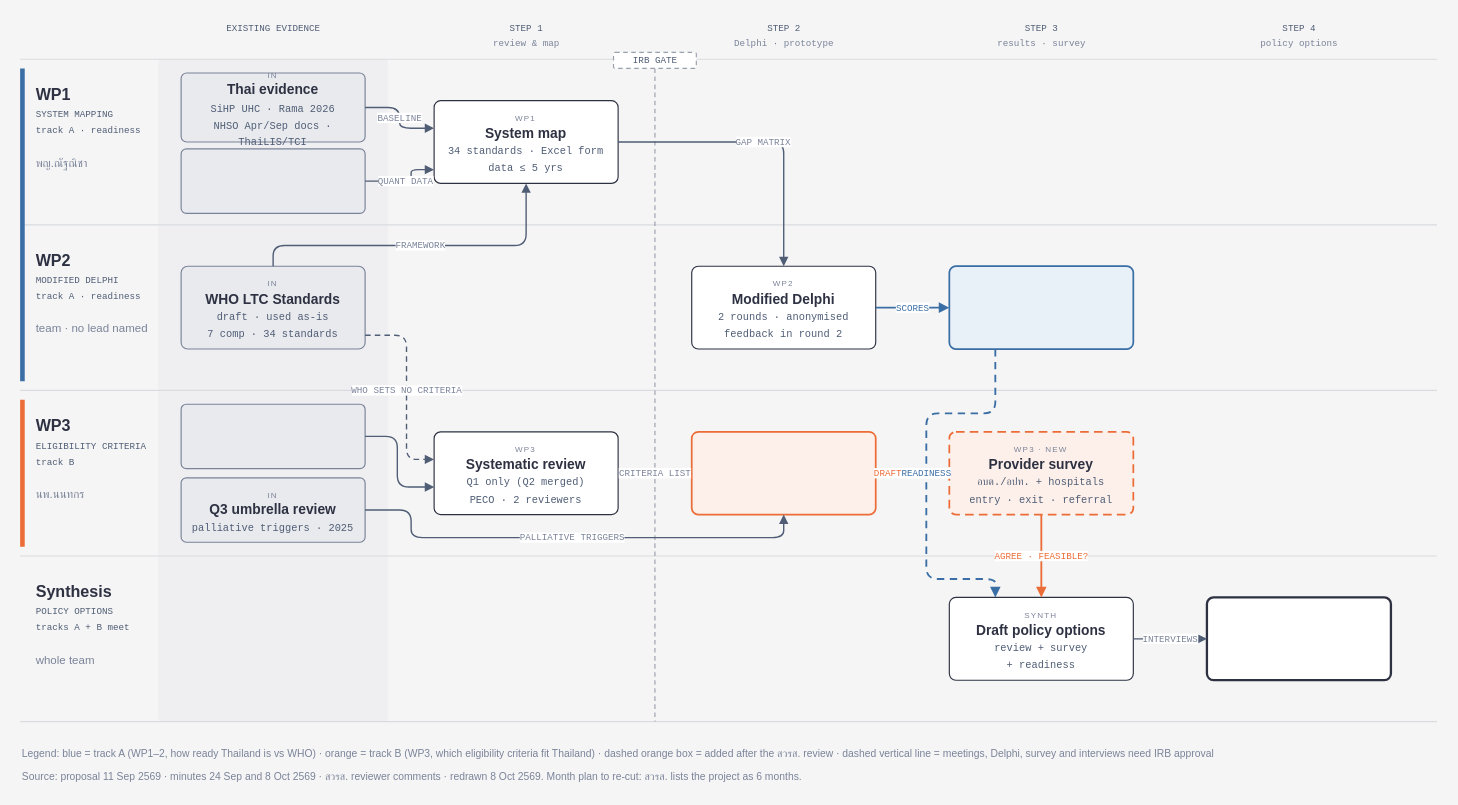
Image size: 1458x805. Some labels were removed from this diagram. Here are the shapes that lost their labels. From the top down, the centre of each, then its label:
the point at 272,180: IN State data NHSO LTC · ผู้สูงอายุ · พม. · มท.
the point at 1041,307: OUT A Thai readiness score per standard vs WHO
the point at 272,436: IN Literature eligibility tools · criteria
the point at 783,472: WP3 Criteria prototype Thai clinical experts
the point at 1298,638: OUT Policy options after in-depth interviews with policymakers
